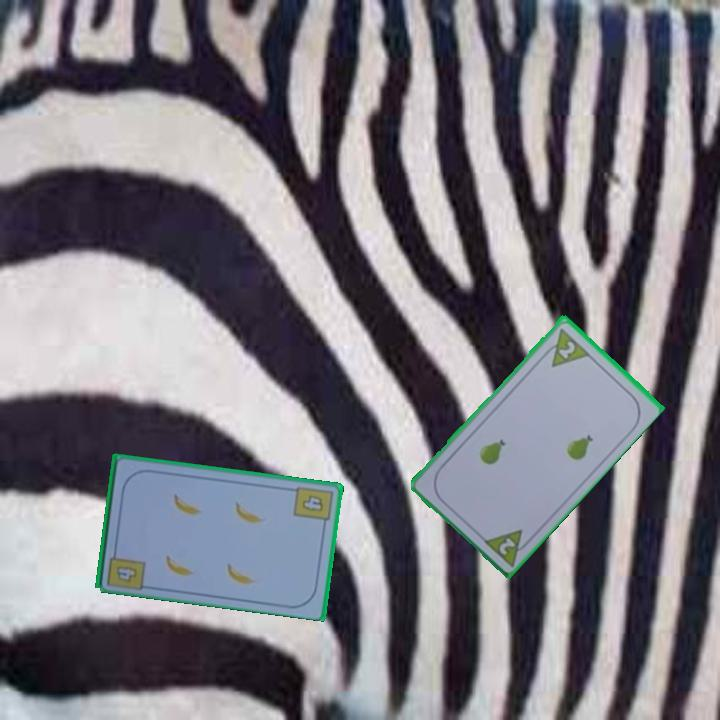2p: (479, 525, 536, 569), (555, 337, 578, 361)
4b: (290, 482, 335, 530), (113, 562, 140, 585)
